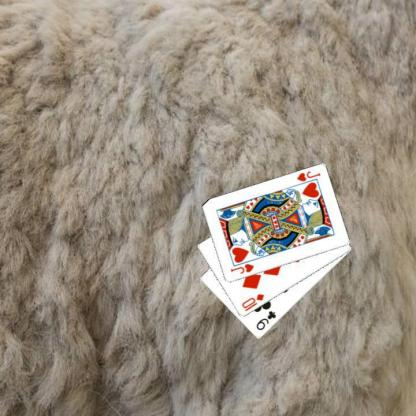10D: (239, 291, 265, 313)
9C: (254, 309, 277, 332)
JH: (228, 261, 255, 275), (294, 169, 321, 183)
